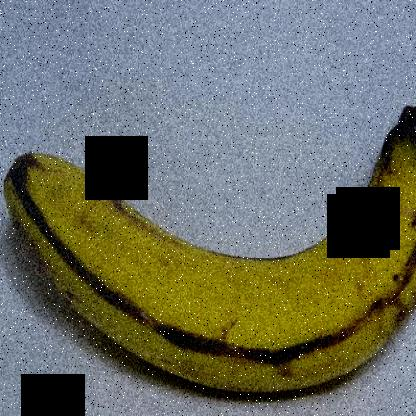ripe: (1, 96, 415, 415)
